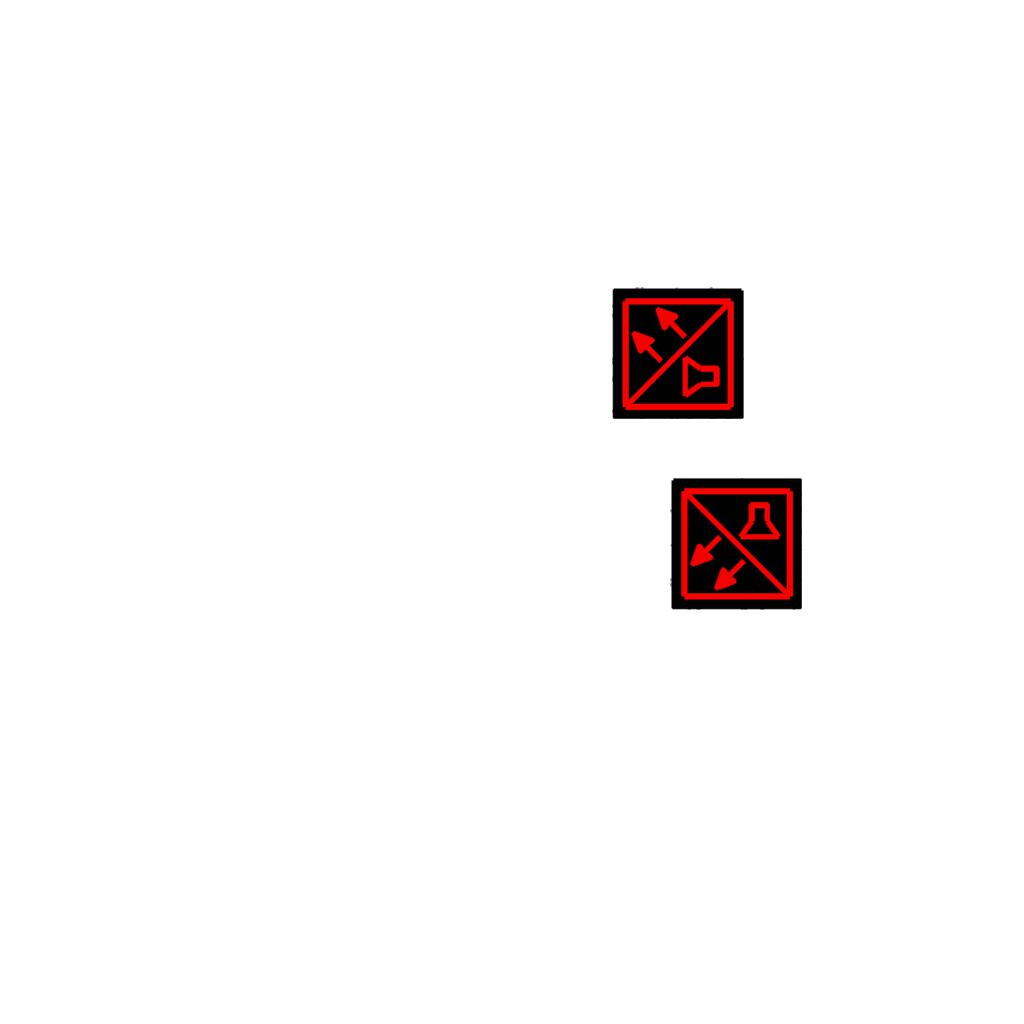OKW_Multisensormelder_(Kombination_optischer_Rauch-Kahlenmonoxid_Waerme-Melder): (612, 287, 744, 419), (670, 478, 802, 610)
